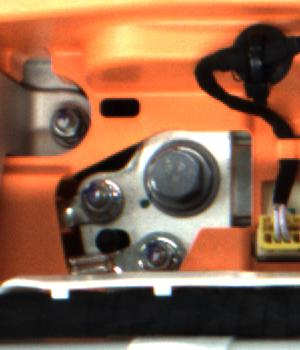nut_b: (140, 132, 223, 221)
screw_s: (38, 103, 83, 140), (79, 181, 118, 212), (141, 238, 171, 271)
